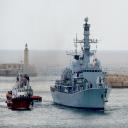Fragata: (50, 19, 113, 113)
